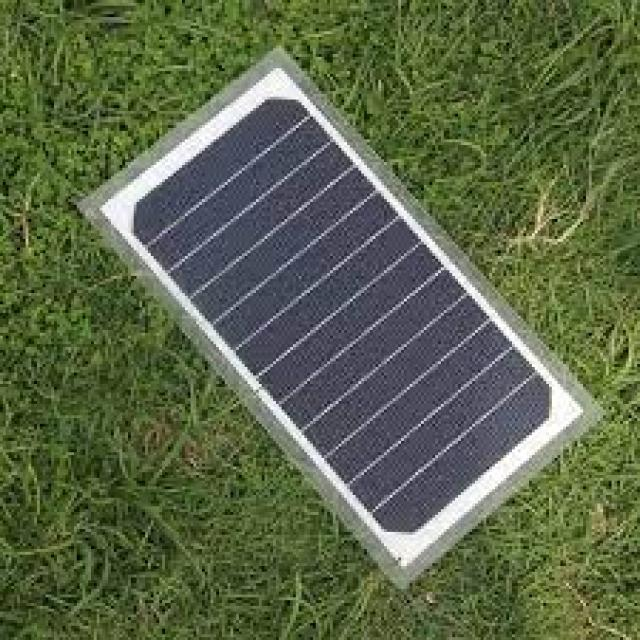no faulty: (122, 100, 559, 542)
